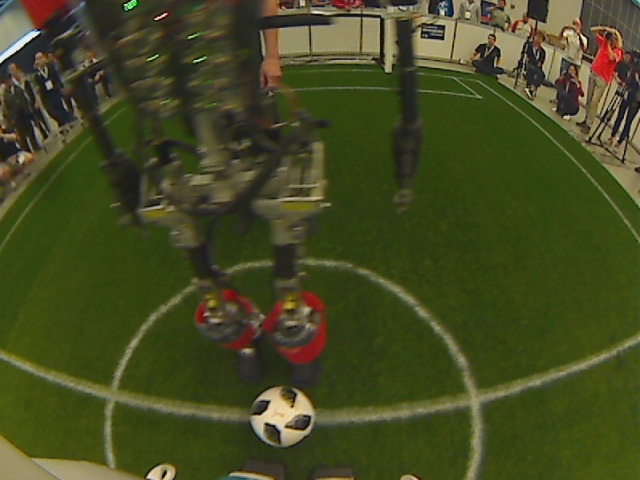ball: (246, 383, 318, 452)
goalpost: (377, 53, 403, 80)
robot: (186, 279, 332, 385)
